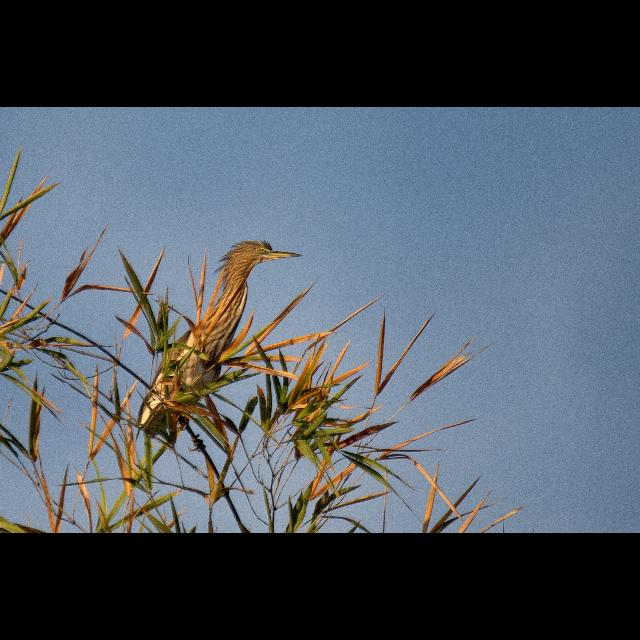heron: (141, 225, 309, 438)
